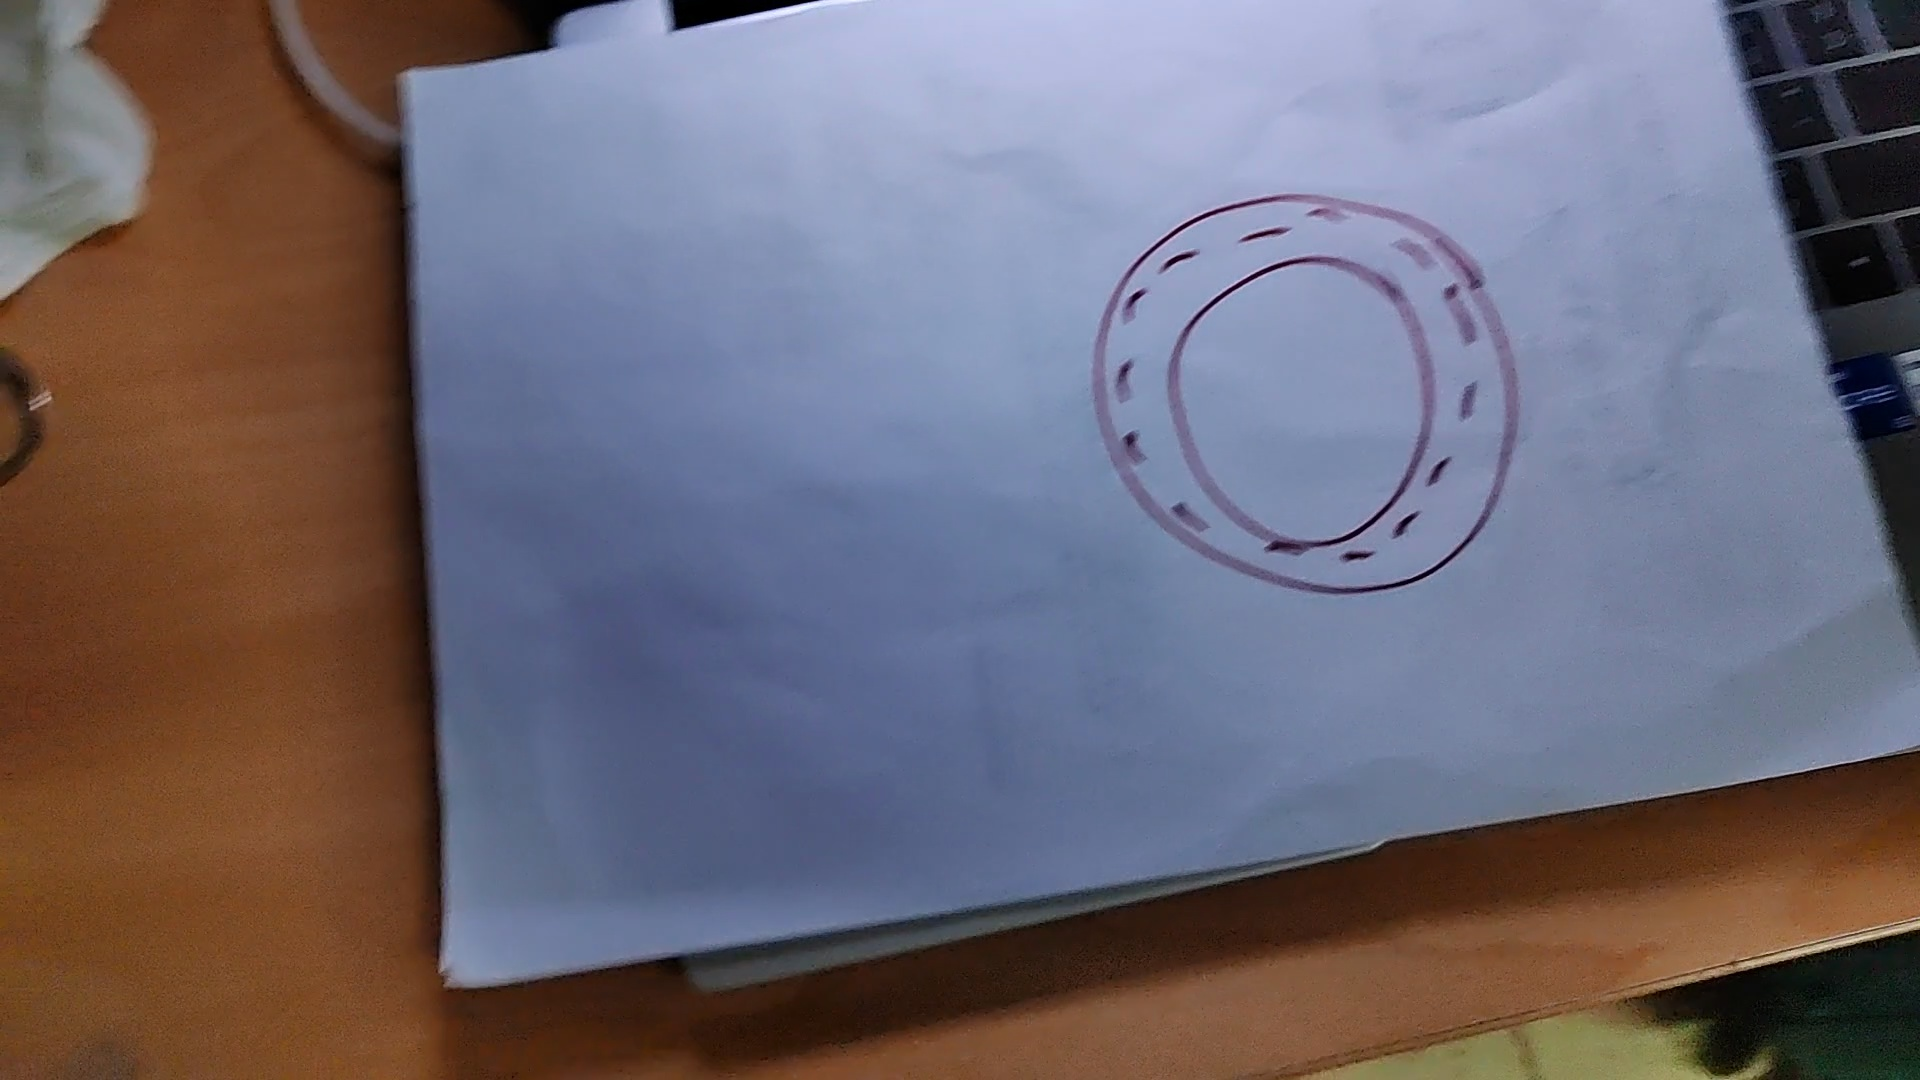circle: (1095, 196, 1516, 593)
